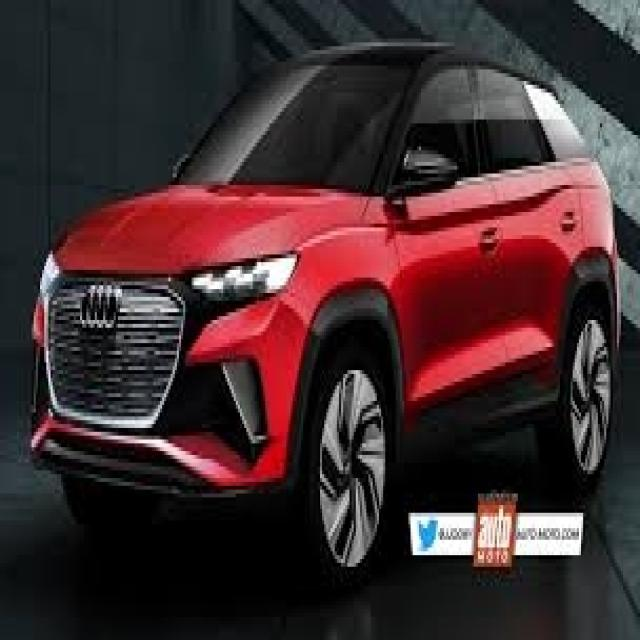red: (33, 42, 617, 589)
